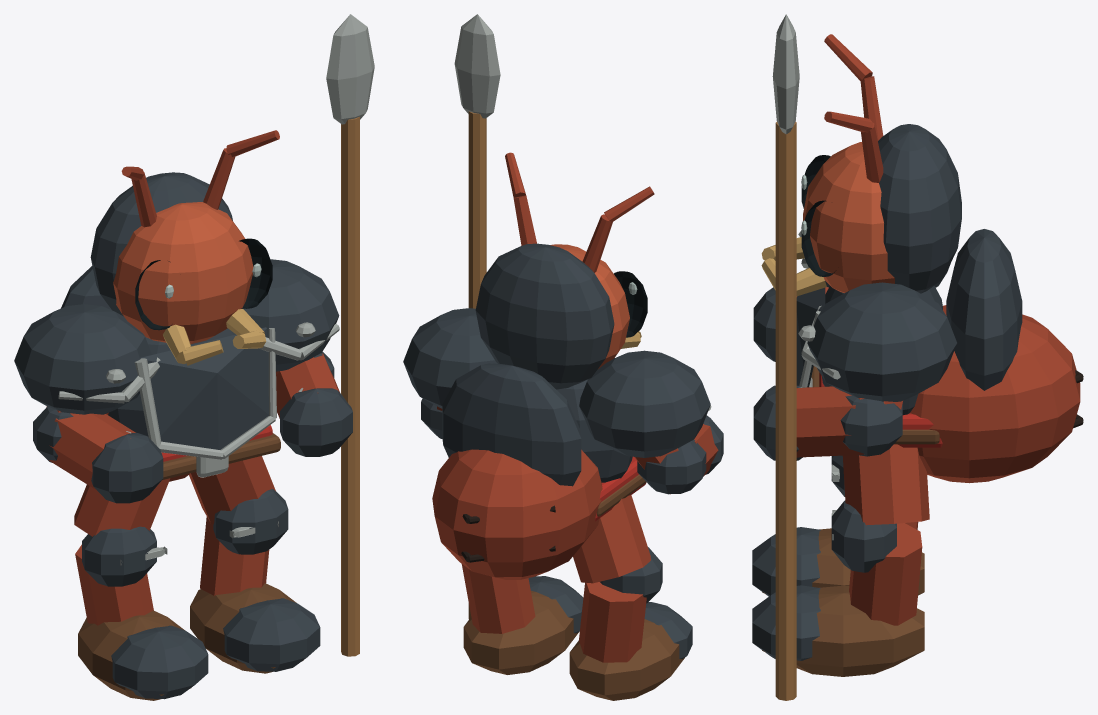
The model's file is guard.glb.
3 renders of one model, left to right at view 1: azimuth 30°, elevation 25°; view 2: azimuth 150°, elevation 25°; view 3: azimuth 270°, elevation 25°, orthographic. The views are drawn at different scales.
Parts seen in each view (by area): view 1: guard; view 2: guard; view 3: guard.
Part boxes in pixels (x1=…): guard: x1=14, y1=14, x2=374, y2=700; guard: x1=403, y1=14, x2=723, y2=700; guard: x1=752, y1=14, x2=1083, y2=700.
Bounding box in the file's own units: 1.26 × 2.55 × 1.1.
